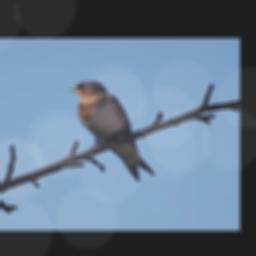Swallow: (68, 79, 155, 181)
